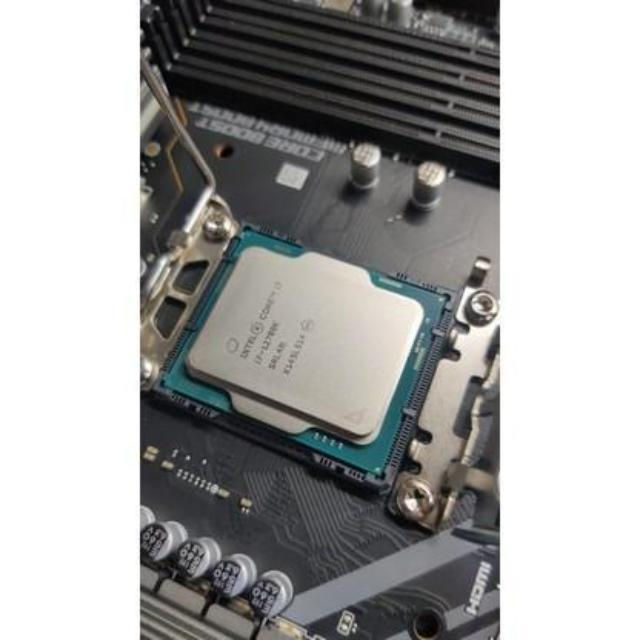CPU: (172, 240, 432, 454)
